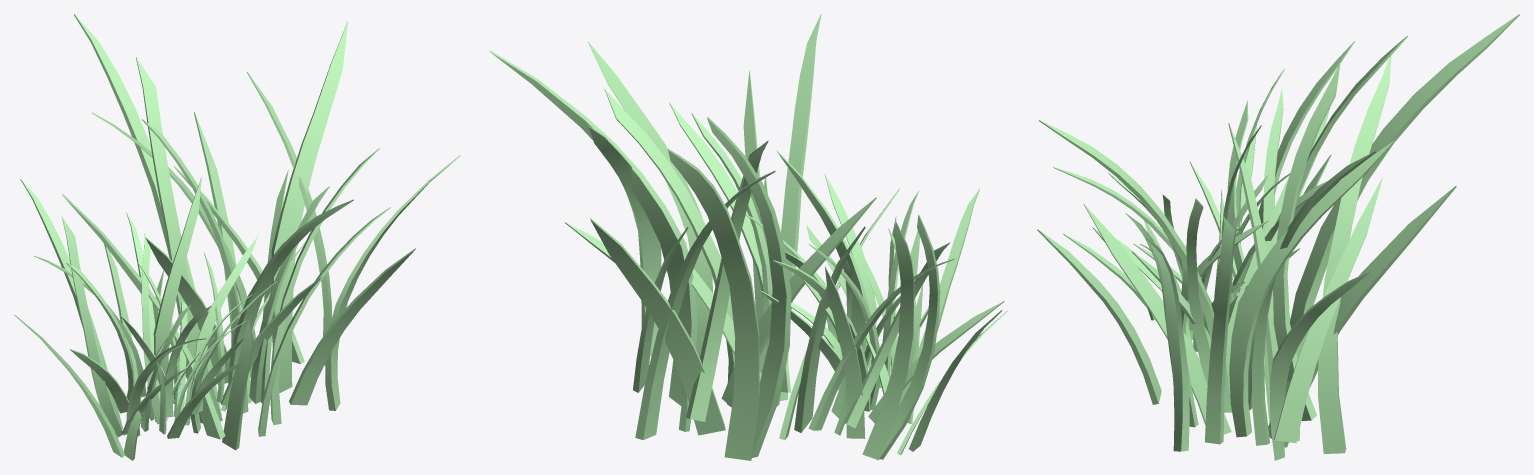
Rendered from sm_animplants_02.gltf.
3 views of the same model, side by side, from view 1: azimuth 30°, elevation 25°; view 2: azimuth 150°, elevation 25°; view 3: azimuth 270°, elevation 25° (orthographic). The views are drawn at different scales.
Visible parts, largest first — view 1: sm_animplants_02; view 2: sm_animplants_02; view 3: sm_animplants_02.
Part boxes in pixels (x1,y1,x2,y2): sm_animplants_02: (14, 14, 460, 460); sm_animplants_02: (489, 14, 1008, 460); sm_animplants_02: (1037, 14, 1519, 460).
Size of the model in its own units: 0.6219 by 0.5169 by 0.5553.
